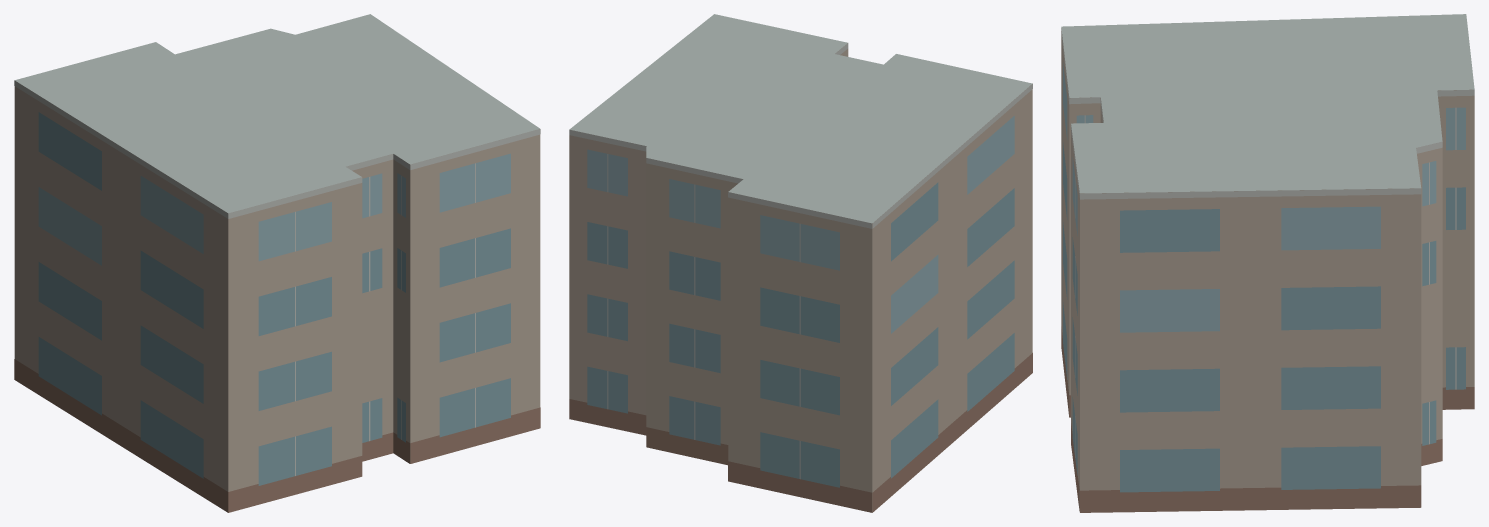
Rendered from survey-upis-32674586.glb.
3 views of the same model, side by side, from view 1: azimuth 30°, elevation 25°; view 2: azimuth 150°, elevation 25°; view 3: azimuth 270°, elevation 25° (orthographic). The views are drawn at different scales.
Visible parts, largest first — view 1: survey-upis-32674586.tmp; view 2: survey-upis-32674586.tmp; view 3: survey-upis-32674586.tmp.
Boxes of the visible parts, <box> form: survey-upis-32674586.tmp: <box>14,14,540,512</box>; survey-upis-32674586.tmp: <box>569,14,1032,512</box>; survey-upis-32674586.tmp: <box>1061,14,1474,512</box>.
Size of the model in its own units: 15.43 by 12.8 by 15.02.
